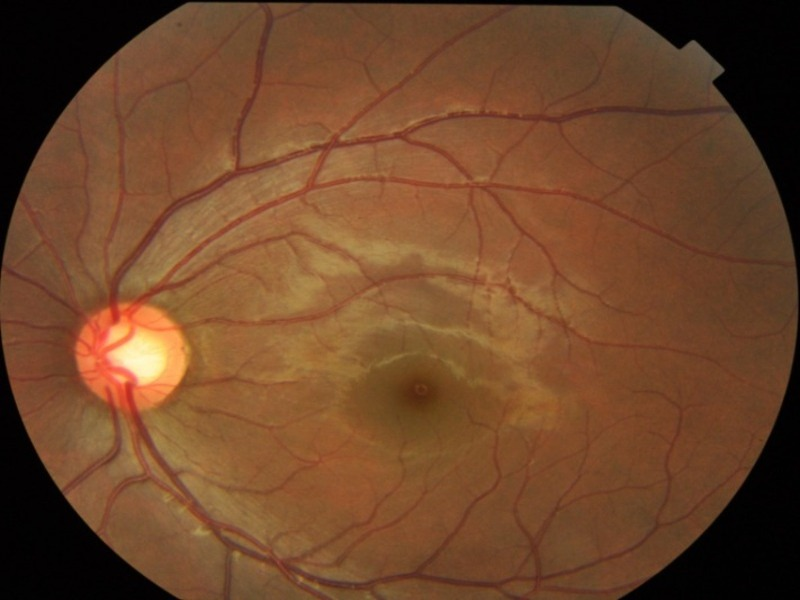Optic Cup: (111, 333, 163, 379)
Optic Disc: (73, 302, 187, 409)
